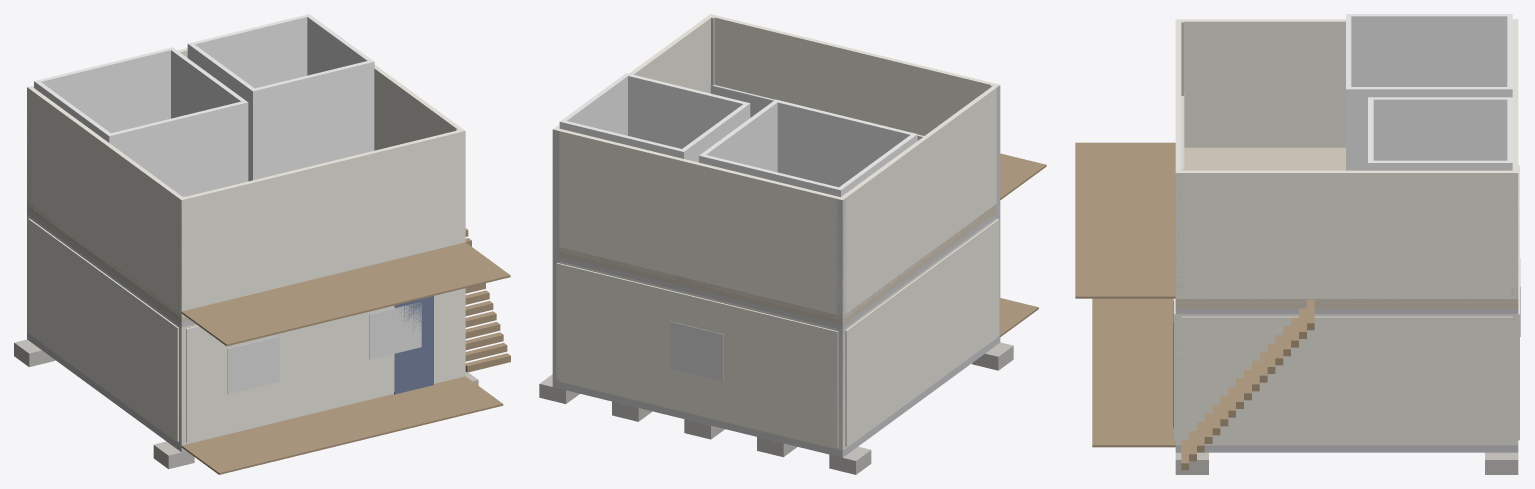
The model's file is Duplex-20-Base-IvoryWhite-LOD1.glb.
The picture shows the model from 3 angles, left to right: view 1: azimuth 30°, elevation 25°; view 2: azimuth 150°, elevation 25°; view 3: azimuth 270°, elevation 25°; orthographic projection. The views are drawn at different scales.
Visible parts, largest first — view 1: ExteriorShellUpper, ExteriorPanelsStandard, StudyUpper, BedroomUpper, BalconyUpper, BalconyGround, WindowsStandard, StaircaseExternal, EntryDoor, ExteriorShell, FoundationBlocks, BaseFrame (+3 smaller); view 2: ExteriorShellUpper, ExteriorPanelsStandard, BedroomUpper, StudyUpper, VerticalStructure, FloorUpper, FoundationBlocks, BaseFrame, ExteriorShell, WindowsStandard, TopFrame, BalconyUpper (+2 smaller); view 3: ExteriorShellUpper, ExteriorPanelsStandard, BalconyUpper, BedroomUpper, BalconyGround, StudyUpper, FloorUpper, StaircaseExternal, ExteriorShell, BaseFrame, TopFrame, FoundationBlocks (+1 smaller).
Part boxes in pixels (x1,y1,x2,y2): ExteriorShellUpper: (27,48,465,317); ExteriorPanelsStandard: (28,218,461,442); StudyUpper: (187,14,374,181); BedroomUpper: (34,47,248,196); BalconyUpper: (181,242,510,346); BalconyGround: (181,376,503,474); WindowsStandard: (227,303,421,394); StaircaseExternal: (465,228,510,372); EntryDoor: (394,296,433,394); ExteriorShell: (27,214,465,445); FoundationBlocks: (14,339,478,469); BaseFrame: (27,333,186,452); ExteriorShellUpper: (553,14,999,320); ExteriorPanelsStandard: (556,219,999,447); BedroomUpper: (699,99,917,197); StudyUpper: (559,73,750,162); VerticalStructure: (552,17,1000,449); FloorUpper: (553,204,996,325); FoundationBlocks: (539,342,1013,474); BaseFrame: (552,336,1000,457); ExteriorShell: (553,218,996,450); WindowsStandard: (670,321,723,380); TopFrame: (559,213,996,329); BalconyUpper: (1000,153,1046,199); ExteriorShellUpper: (1175,19,1518,303); ExteriorPanelsStandard: (1174,165,1519,443); BalconyUpper: (1075,142,1175,298); BedroomUpper: (1346,14,1512,170); BalconyGround: (1092,298,1175,447); StudyUpper: (1368,97,1512,170); FloorUpper: (1175,147,1518,308); StaircaseExternal: (1181,299,1314,470); ExteriorShell: (1175,314,1518,445); BaseFrame: (1175,445,1518,452); TopFrame: (1175,309,1518,313); FoundationBlocks: (1175,452,1518,474).
Size of the model in its own units: 7.94 by 6 by 8.
